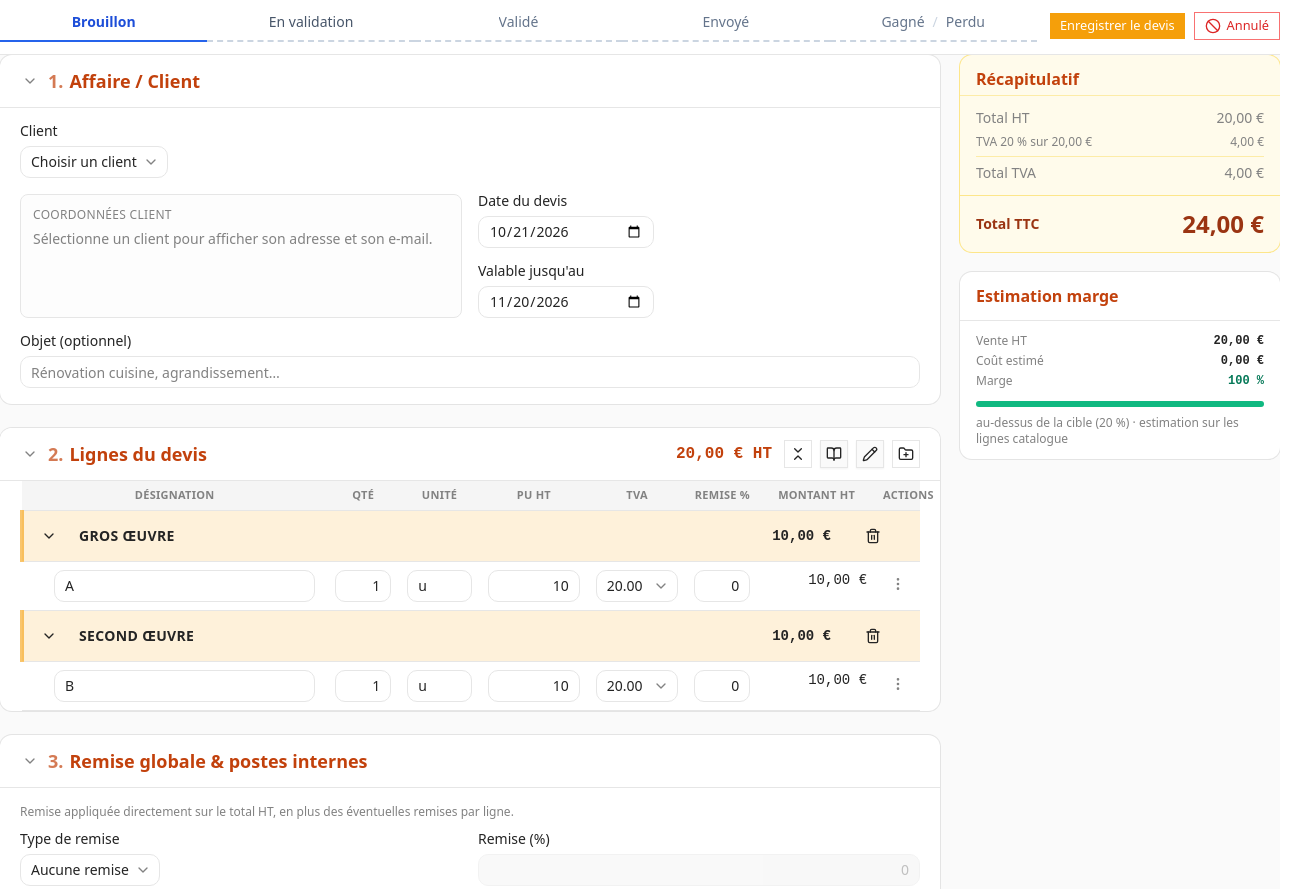
Scenario: DevisEditor — bouton « tout déplier / replier » en état mixte › « Tout déplier » rouvre la section repliée (et le bouton repasse à « Tout replier »)
Note: État mixte : une section repliée.
Click the 1st button named "Replier la section": (49, 536) [37,524,61,548]
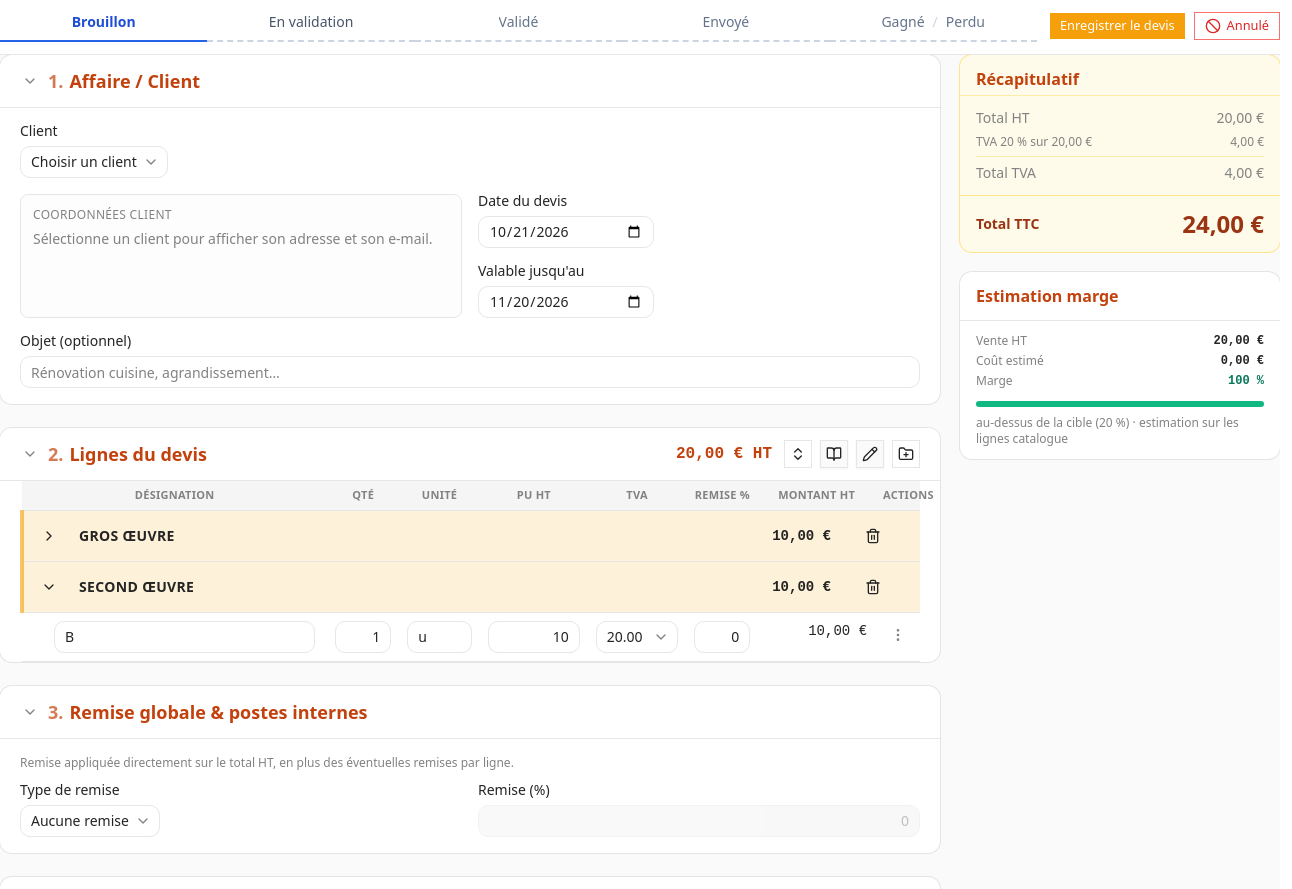
Expected: the number of buttons named "Déplier la section" is 1, [37,524,61,548]
Note: Clic sur le bouton global « Tout déplier ».
Click the button named "Déplier toutes les sections": (798, 454) [784,440,812,468]
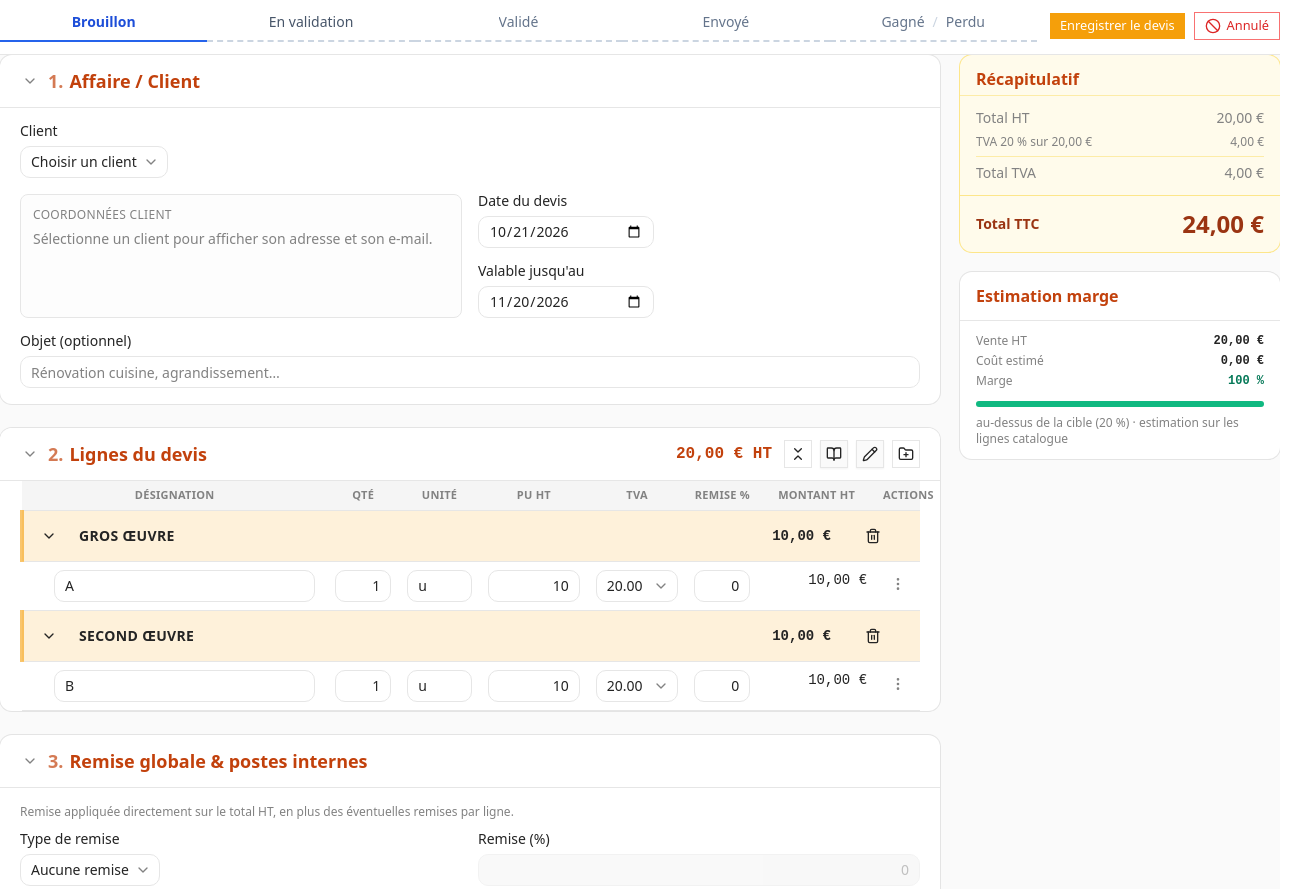
Expected: the number of buttons named "Replier la section" is 2, [37,524,61,548]; [37,624,61,648]
Now the button named "Replier toutes les sections" is shown, box [784,440,812,468]
